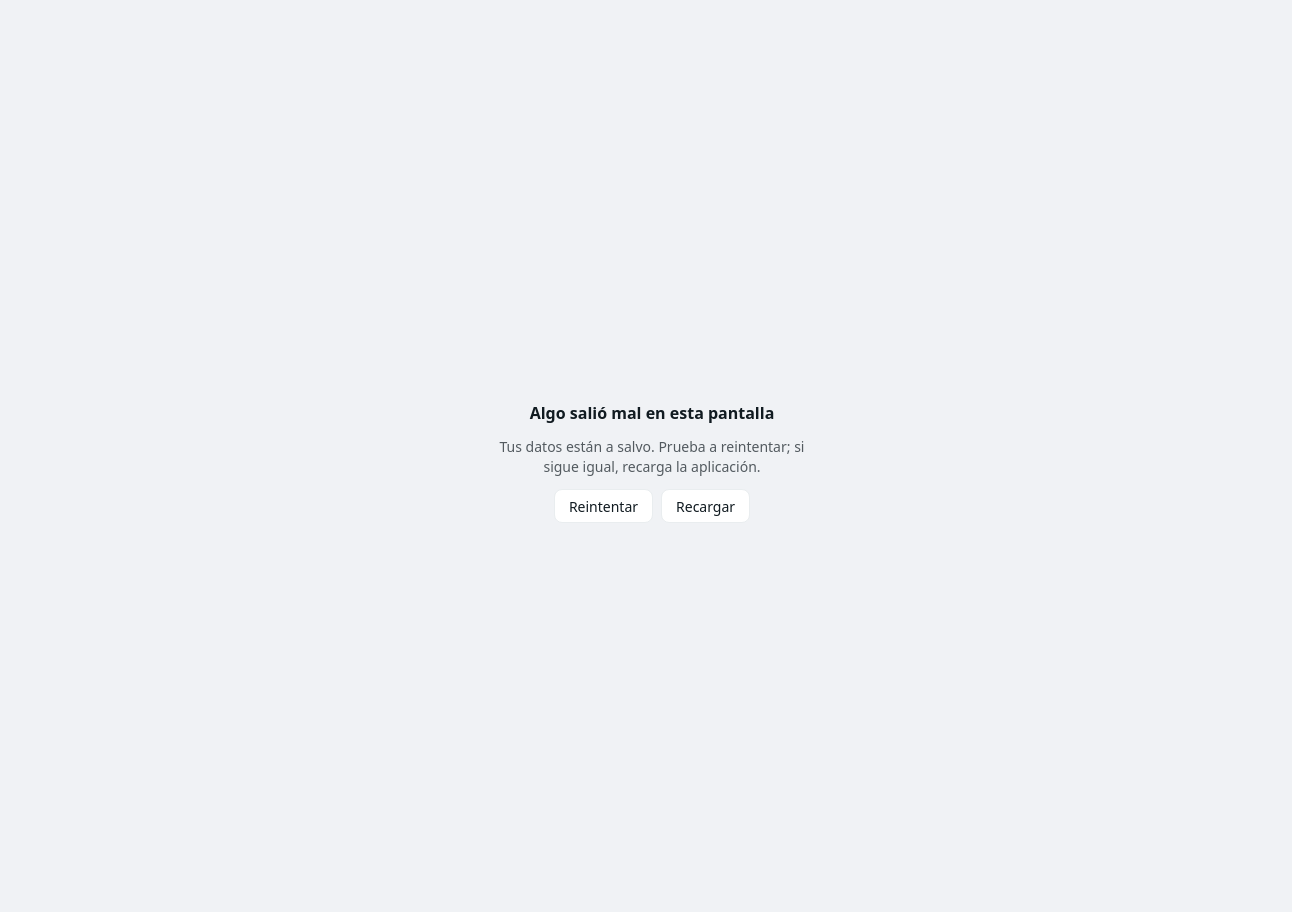
ErrorBoundary › muestra un aviso en español, no deja la pantalla en blanco y se recupera al reintentar
Expected: the heading "Algo salió mal en esta pantalla" is shown, [530, 401, 774, 425]
Expected: the button "Recargar" is shown, [661, 489, 750, 523]
Click the button "Reintentar". click: coordinates (604, 506)
box: [554, 489, 653, 523]
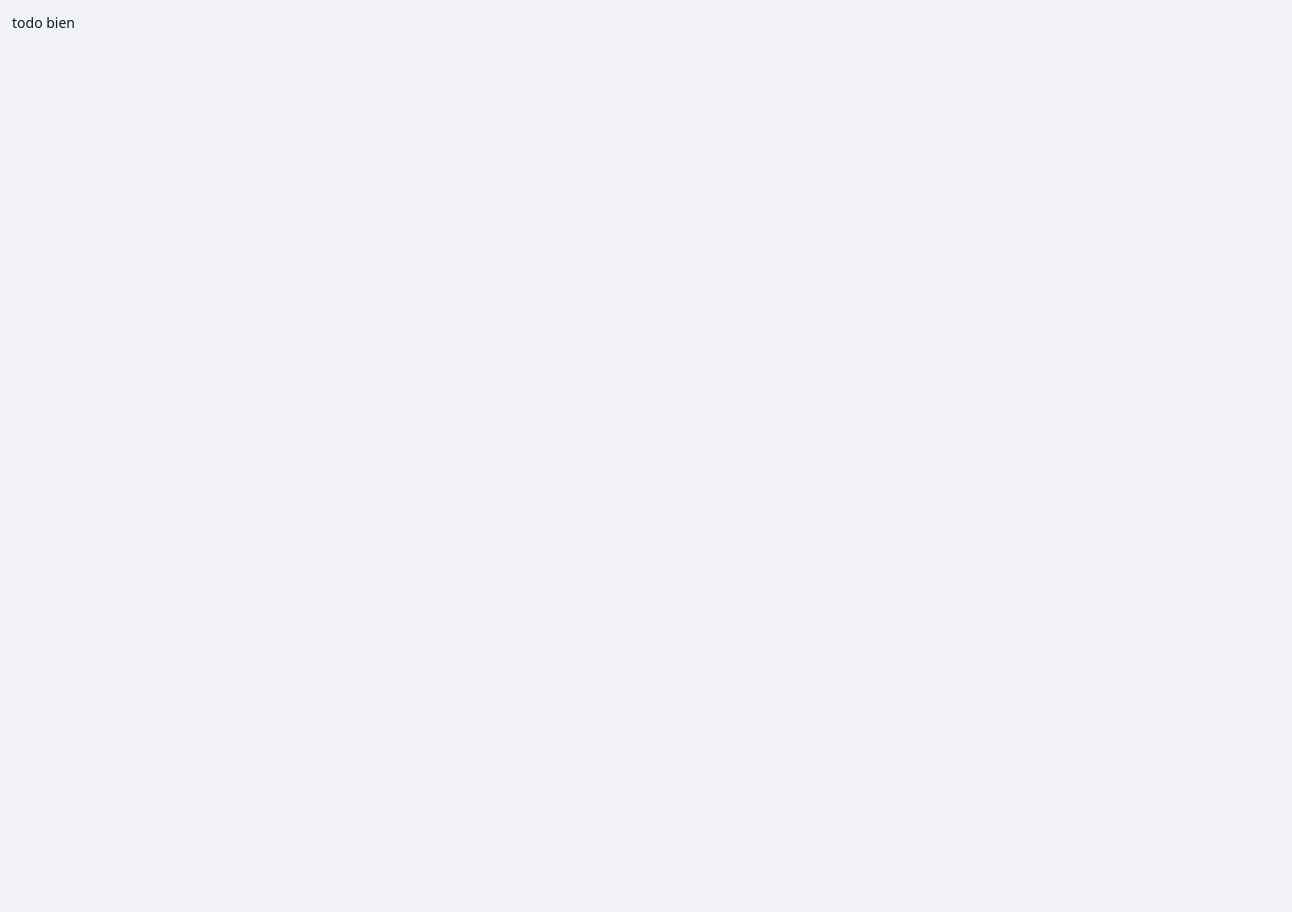
Expected: the text "todo bien" is shown, [12, 13, 75, 32]
